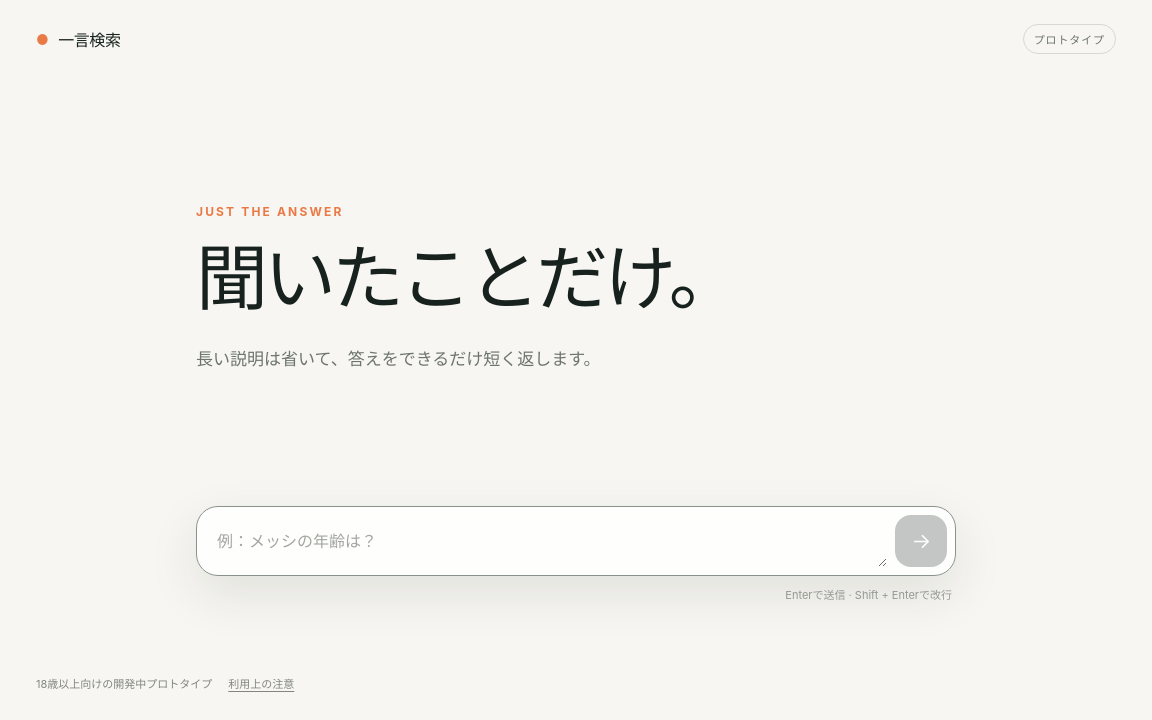
Test: App › keeps the input open for clarification and locks it after an answer
Type "明日の天気は？" into the text box named "質問".
click(546, 541); type("明日の天気は？")  # box [205,515,887,567]
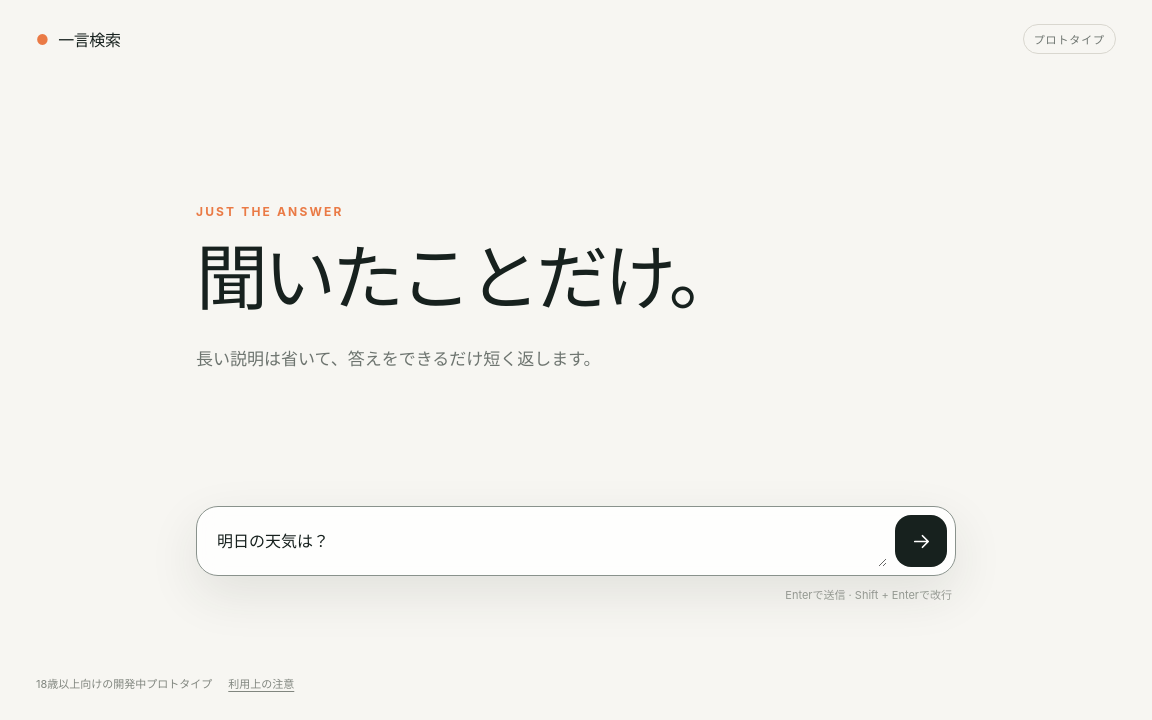
Click the button named "送信".
click(921, 541)  # box [895,515,947,567]
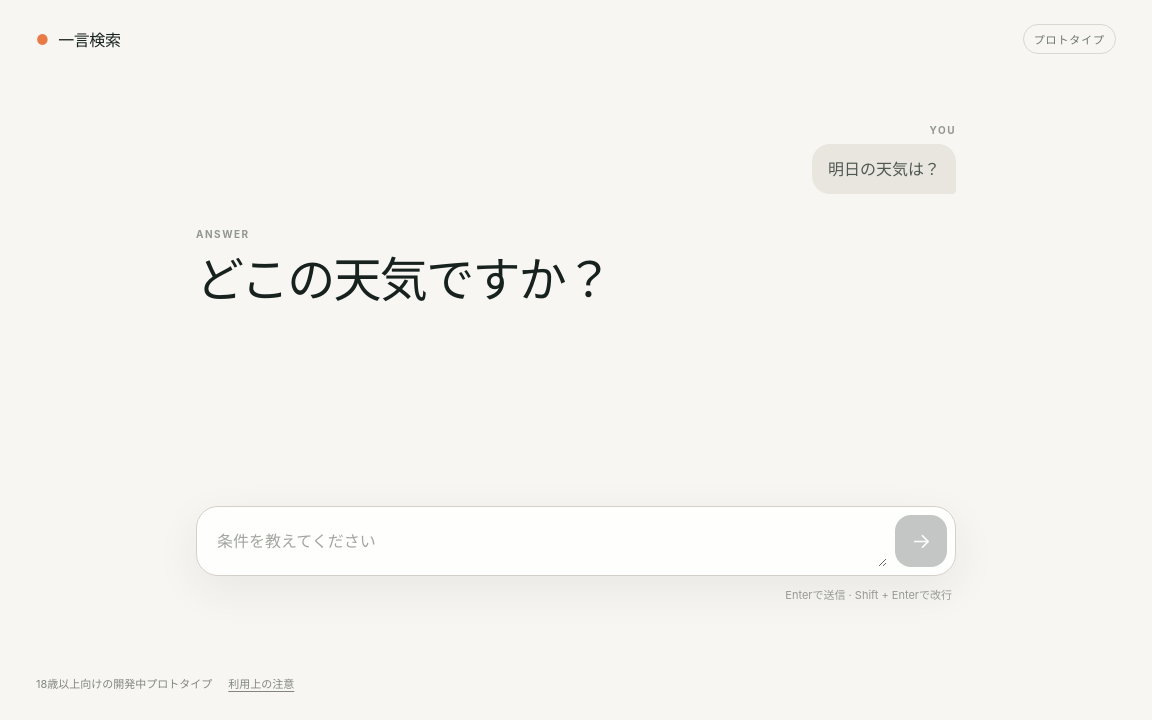
Now the text "どこの天気ですか？" is shown, box [196,248,612,313]
Type "東京都港区" into the text box named "質問".
click(546, 541); type("東京都港区")  # box [205,515,887,567]
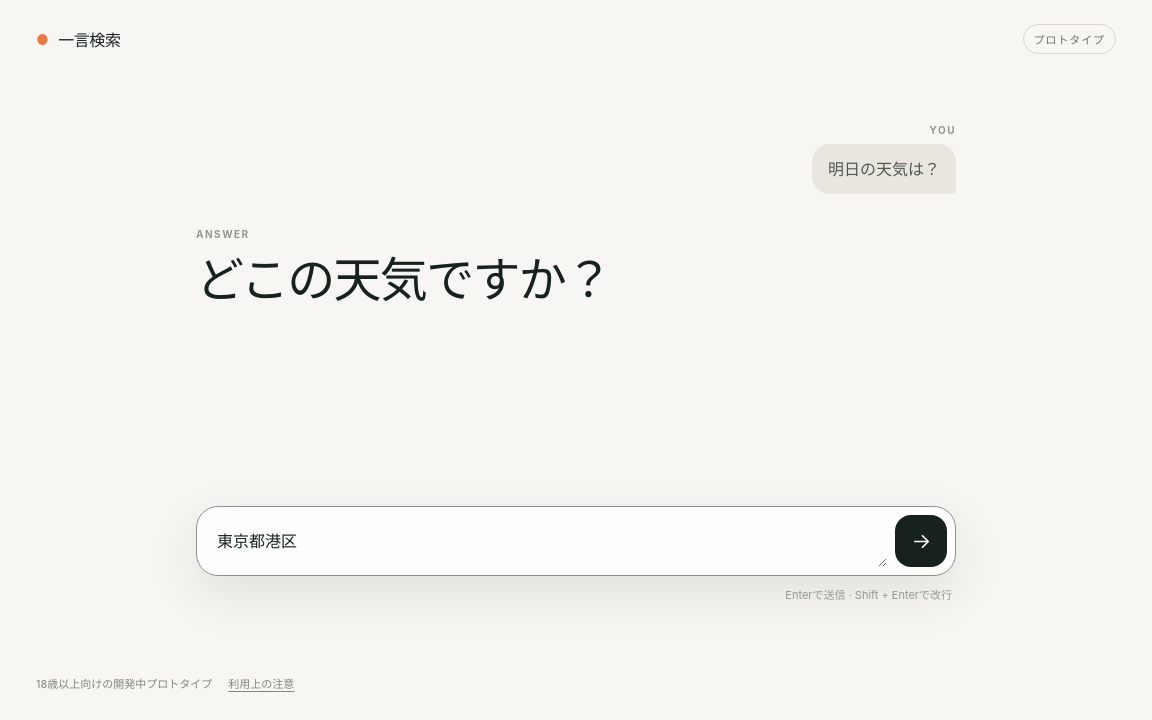
Click the button named "送信".
click(921, 541)  # box [895,515,947,567]
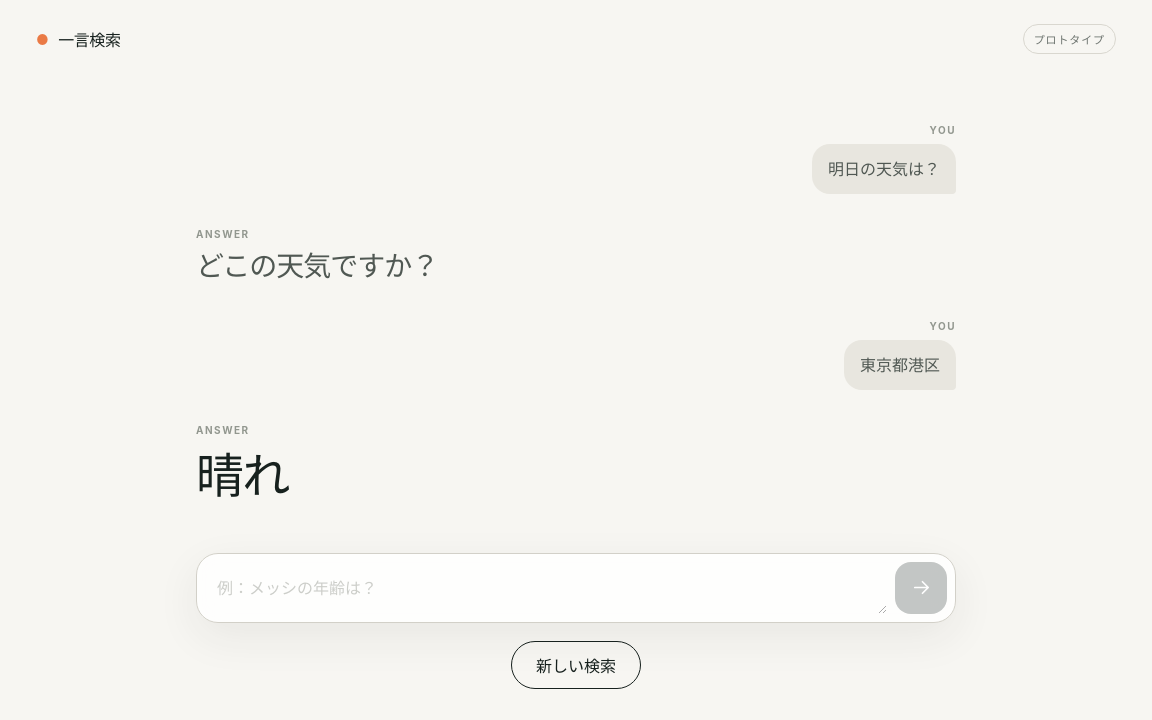
Now the text "晴れ" is shown, box [196,444,289,509]
Now the text box named "質問" is disabled, box [205,562,887,614]
Click the button "新しい検索".
click(576, 665)  # box [511,641,641,689]
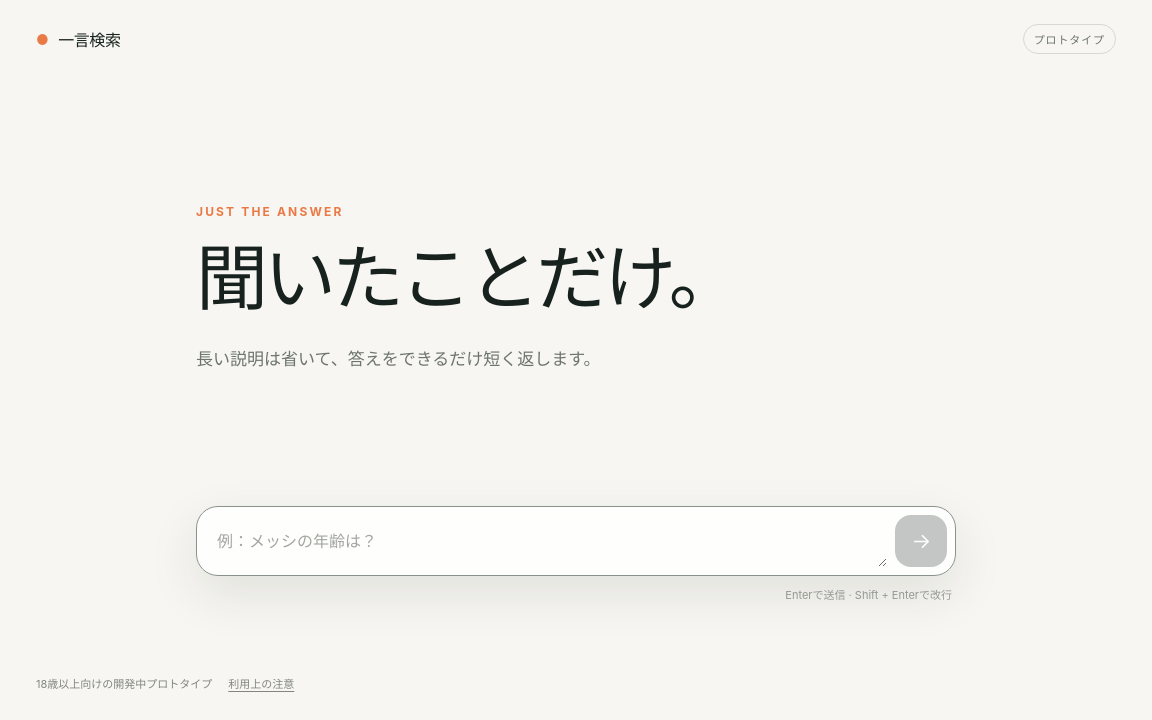
Now the text box named "質問" is enabled, box [205,515,887,567]
Now the text "晴れ" is not shown
